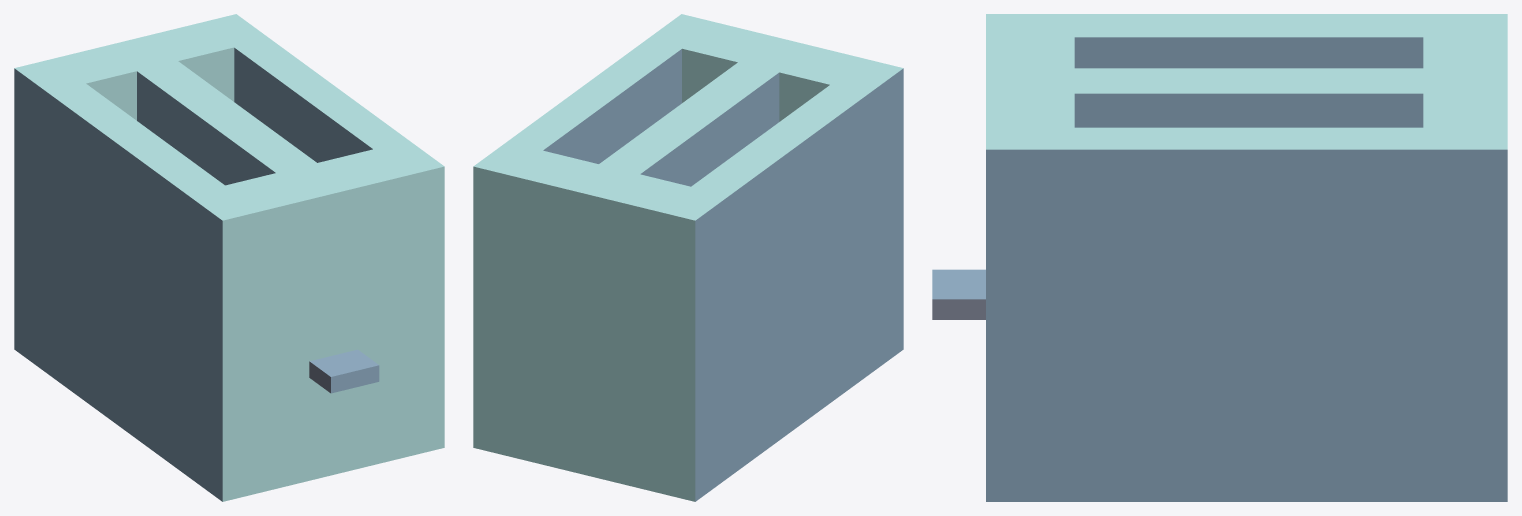
Rendered from Toaster.fbx.
The picture shows the model from 3 angles, left to right: view 1: azimuth 30°, elevation 25°; view 2: azimuth 150°, elevation 25°; view 3: azimuth 270°, elevation 25°; orthographic projection. The views are drawn at different scales.
Parts seen in each view (by area): view 1: Toaster; view 2: Toaster; view 3: Toaster.
Boxes of the visible parts, bbox=[...] form: Toaster: bbox=[14, 14, 444, 501]; Toaster: bbox=[473, 14, 903, 501]; Toaster: bbox=[932, 14, 1507, 501].
Size of the model in its own units: 22.06 by 26.7 by 39.54.
